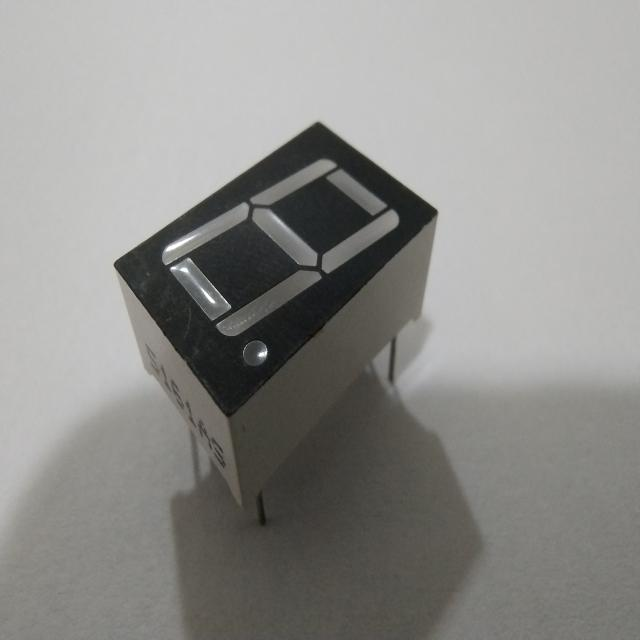7_segments: (96, 111, 440, 527)
